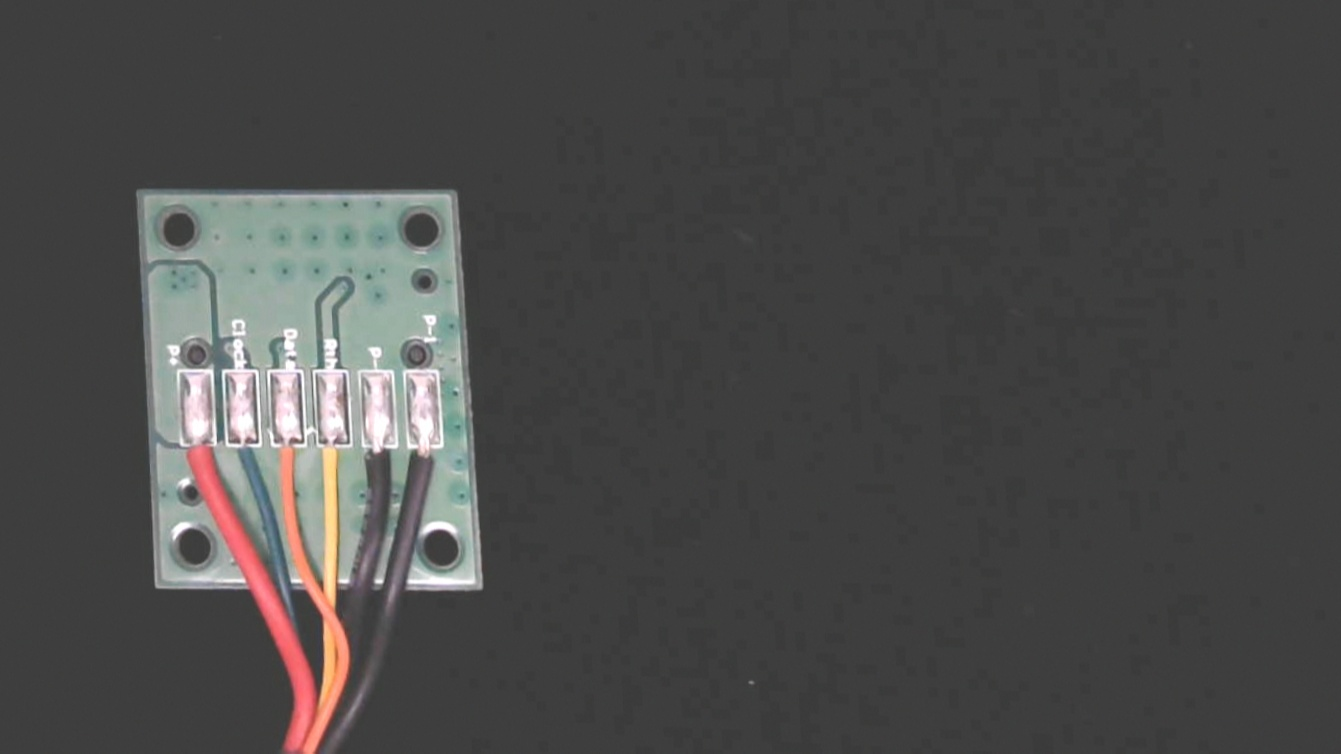Black: (361, 430, 398, 510)
Black1: (407, 430, 446, 504)
Green: (225, 428, 264, 502)
Orange: (269, 430, 308, 510)
Red: (179, 431, 221, 500)
Yellow: (313, 430, 354, 505)
